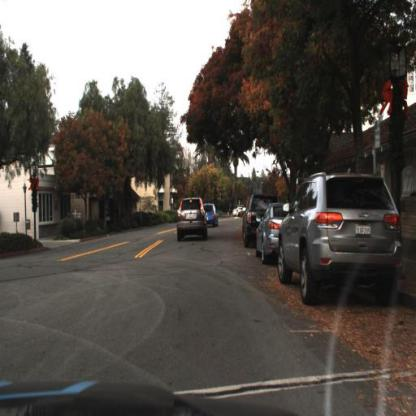car: (275, 171, 407, 311), (254, 199, 293, 266), (240, 193, 279, 250), (175, 197, 211, 246), (202, 201, 219, 228)
